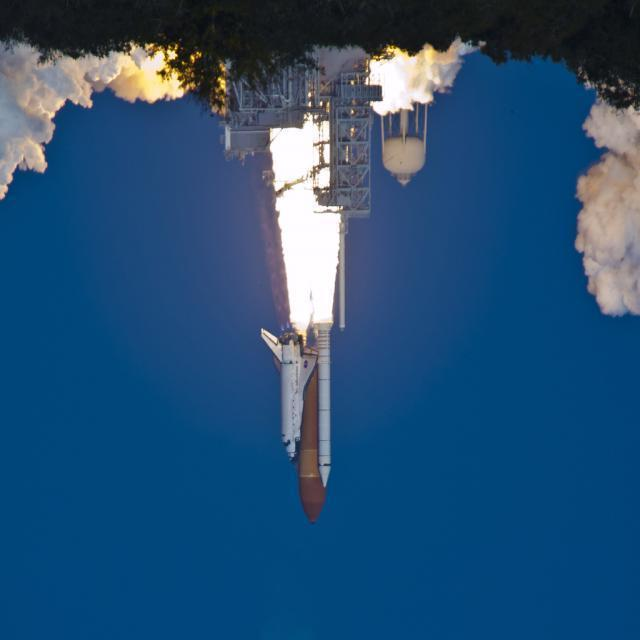missile: (262, 309, 344, 527)
